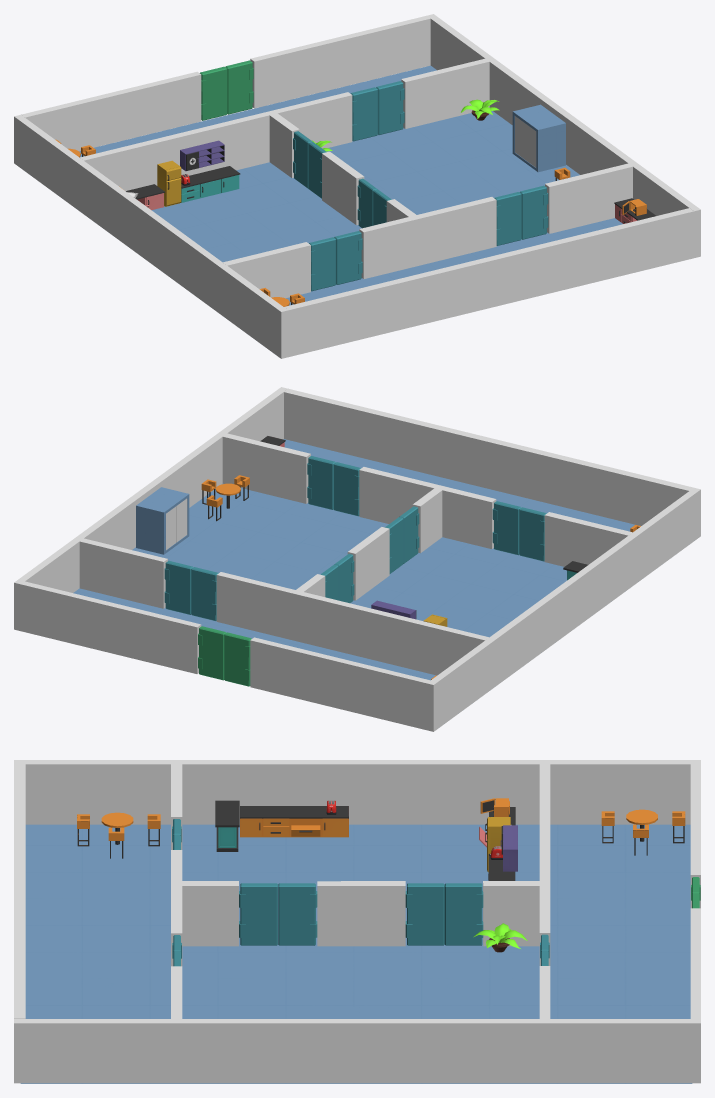
File: maps 03.fbx
3 renders of one model, top to bottom at view 1: azimuth 30°, elevation 25°; view 2: azimuth 150°, elevation 25°; view 3: azimuth 270°, elevation 25°, orthographic. The views are drawn at different scales.
Parts seen in each view (by area): view 1: polySurface147, polySurface139, polySurface136, polySurface143, polySurface145, polySurface137, polySurface146, polySurface141, polySurface6 (×6), polySurface2 (×5), polySurface144, polySurface140 (+8 smaller); view 2: polySurface147, polySurface139, polySurface136, polySurface143, polySurface145, polySurface146, polySurface137, polySurface2 (×6), polySurface6 (×5), polySurface141, polySurface144, polySurface140 (+4 smaller); view 3: polySurface147, polySurface137, polySurface136, polySurface142, polySurface6 (×2), polySurface2 (×2), frames_geo10, polySurface99, frames_geo9, polySurface139, polySurface143, polySurface146 (+10 smaller).
Boxes of the visible parts, <box> form: polySurface147: <box>79,65,622,305</box>; polySurface139: <box>284,208,693,357</box>; polySurface136: <box>14,114,288,358</box>; polySurface143: <box>80,92,352,190</box>; polySurface145: <box>250,15,430,108</box>; polySurface137: <box>427,14,700,257</box>; polySurface146: <box>21,71,201,151</box>; polySurface141: <box>359,197,496,278</box>; polySurface6 (×6): <box>225,60,548,284</box>; polySurface2 (×5): <box>200,66,521,291</box>; polySurface144: <box>401,58,489,128</box>; polySurface140: <box>545,163,632,233</box>; polySurface147: <box>73,439,634,680</box>; polySurface139: <box>284,388,693,525</box>; polySurface136: <box>426,487,700,731</box>; polySurface143: <box>216,572,488,675</box>; polySurface145: <box>21,581,201,673</box>; polySurface146: <box>250,637,430,729</box>; polySurface137: <box>14,387,287,631</box>; polySurface2 (×6): <box>191,462,546,686</box>; polySurface6 (×5): <box>164,456,521,680</box>; polySurface141: <box>359,467,496,548</box>; polySurface144: <box>79,538,167,608</box>; polySurface140: <box>222,433,310,503</box>; polySurface147: <box>20,824,692,1083</box>; polySurface137: <box>14,1019,700,1083</box>; polySurface136: <box>14,760,700,824</box>; polySurface142: <box>317,881,405,946</box>; polySurface6 (×2): <box>278,883,483,945</box>; polySurface2 (×2): <box>239,883,444,945</box>; frames_geo10: <box>182,881,238,946</box>; polySurface99: <box>240,806,348,837</box>; frames_geo9: <box>483,881,539,946</box>; polySurface139: <box>14,764,25,1018</box>; polySurface143: <box>539,764,550,965</box>; polySurface146: <box>690,764,700,908</box>.
Size of what is drawn, in the model's own units: 83.08 by 9.21 by 91.67.
10 materials, 10 textured.
